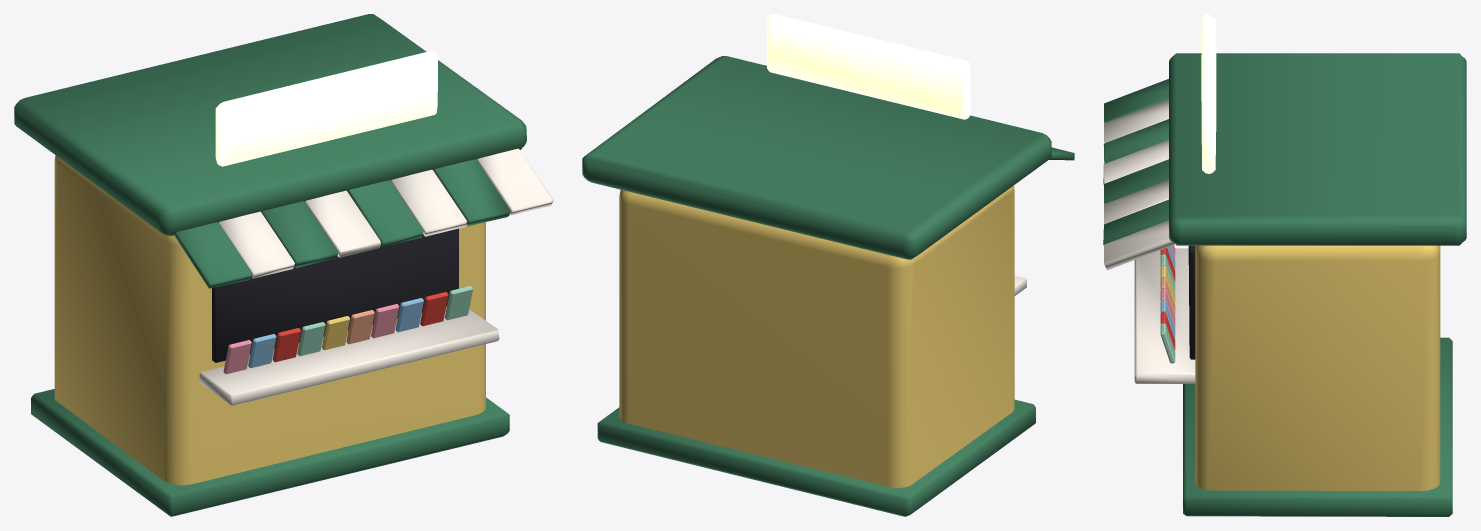
The model's file is kiosk.glb.
3 views of the same model, side by side, from view 1: azimuth 30°, elevation 25°; view 2: azimuth 150°, elevation 25°; view 3: azimuth 270°, elevation 25° (orthographic). The views are drawn at different scales.
Visible parts, largest first — view 1: kiosk; view 2: kiosk; view 3: kiosk.
Boxes of the visible parts, left/top/right/bottom form: kiosk: left=14, top=14, right=553, bottom=516; kiosk: left=582, top=14, right=1074, bottom=516; kiosk: left=1103, top=14, right=1466, bottom=516.
Bounding box in the file's own units: 2.98 × 3.05 × 2.67.
1 material, 1 textured.
